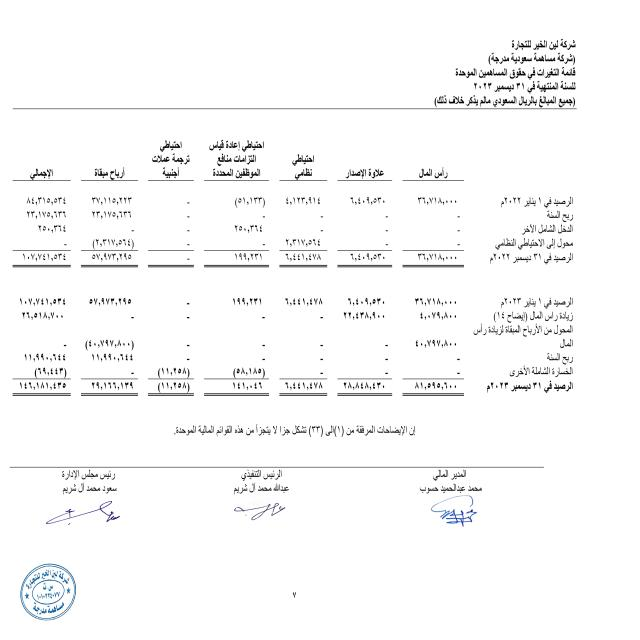financial_sheets: (447, 67, 579, 79)
table: (10, 144, 468, 408)
